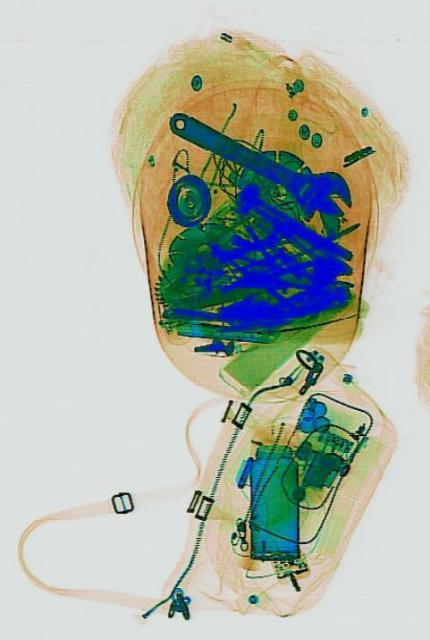Wrench: (162, 86, 356, 238)
